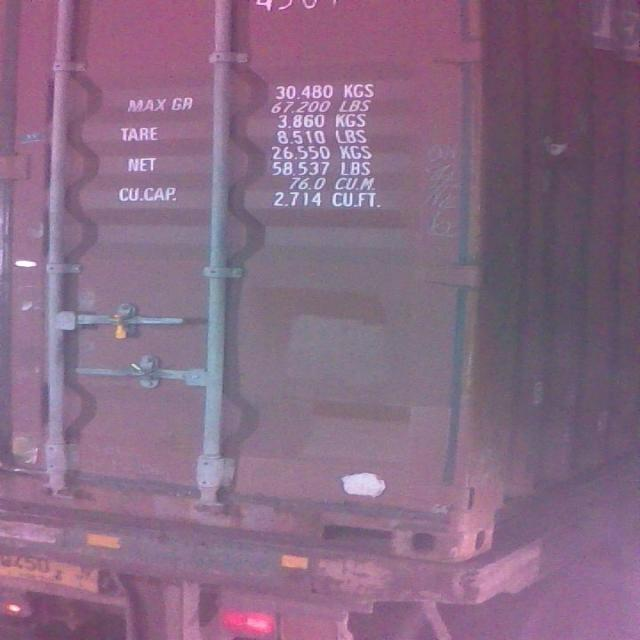seal: (100, 311, 144, 346)
